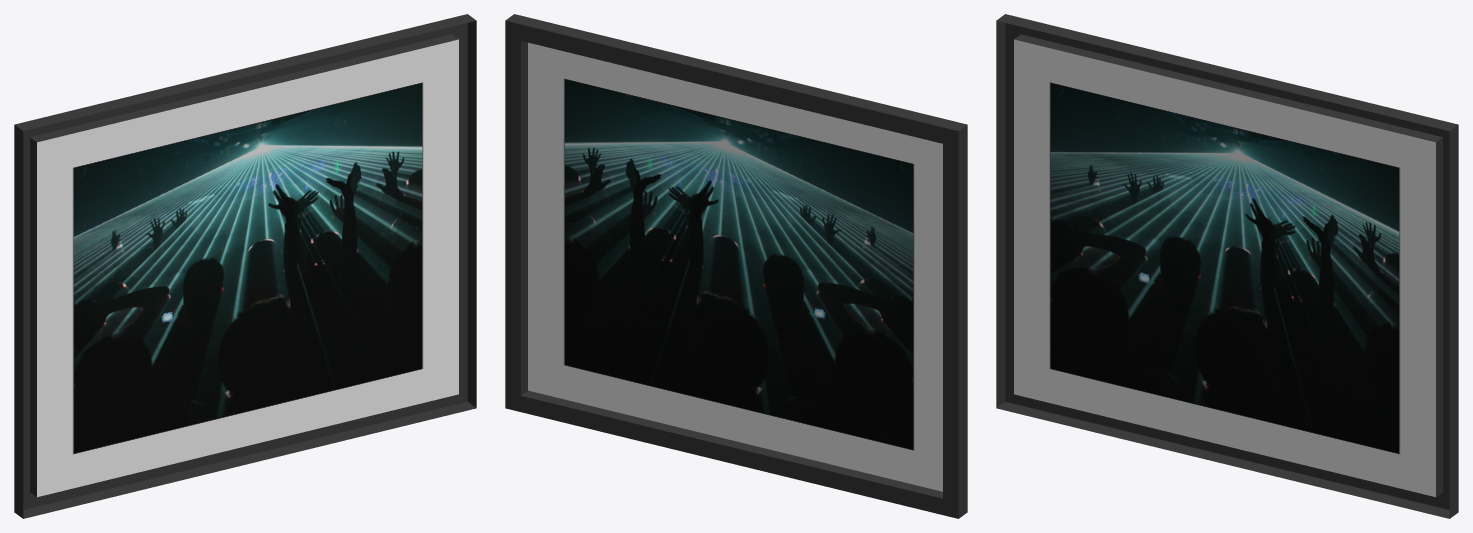
The model's file is Picture_B.fbx.
3 renders of one model, left to right at view 1: azimuth 30°, elevation 25°; view 2: azimuth 150°, elevation 25°; view 3: azimuth 330°, elevation 25°, orthographic.
Visible parts, largest first — view 1: _Picture, Frame; view 2: _Picture, Frame; view 3: _Picture, Frame.
Boxes of the visible parts, bbox=[...] form: _Picture: bbox=[37, 39, 458, 497]; Frame: bbox=[14, 14, 476, 518]; _Picture: bbox=[528, 42, 942, 491]; Frame: bbox=[505, 14, 967, 518]; _Picture: bbox=[1014, 39, 1435, 497]; Frame: bbox=[996, 14, 1458, 518].
Bounding box in the file's own units: 0.52 × 0.425 × 0.018.
